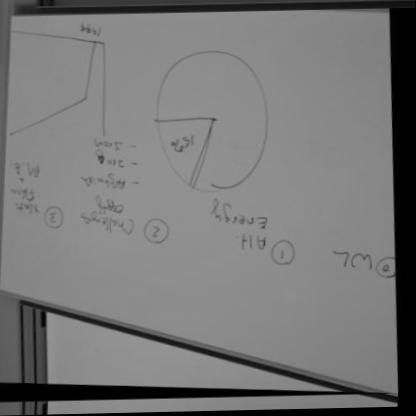Handwritten text: (74, 193, 148, 242), (191, 196, 289, 232), (328, 243, 381, 280), (226, 232, 279, 257)
Whiteboard: (0, 12, 402, 402)
